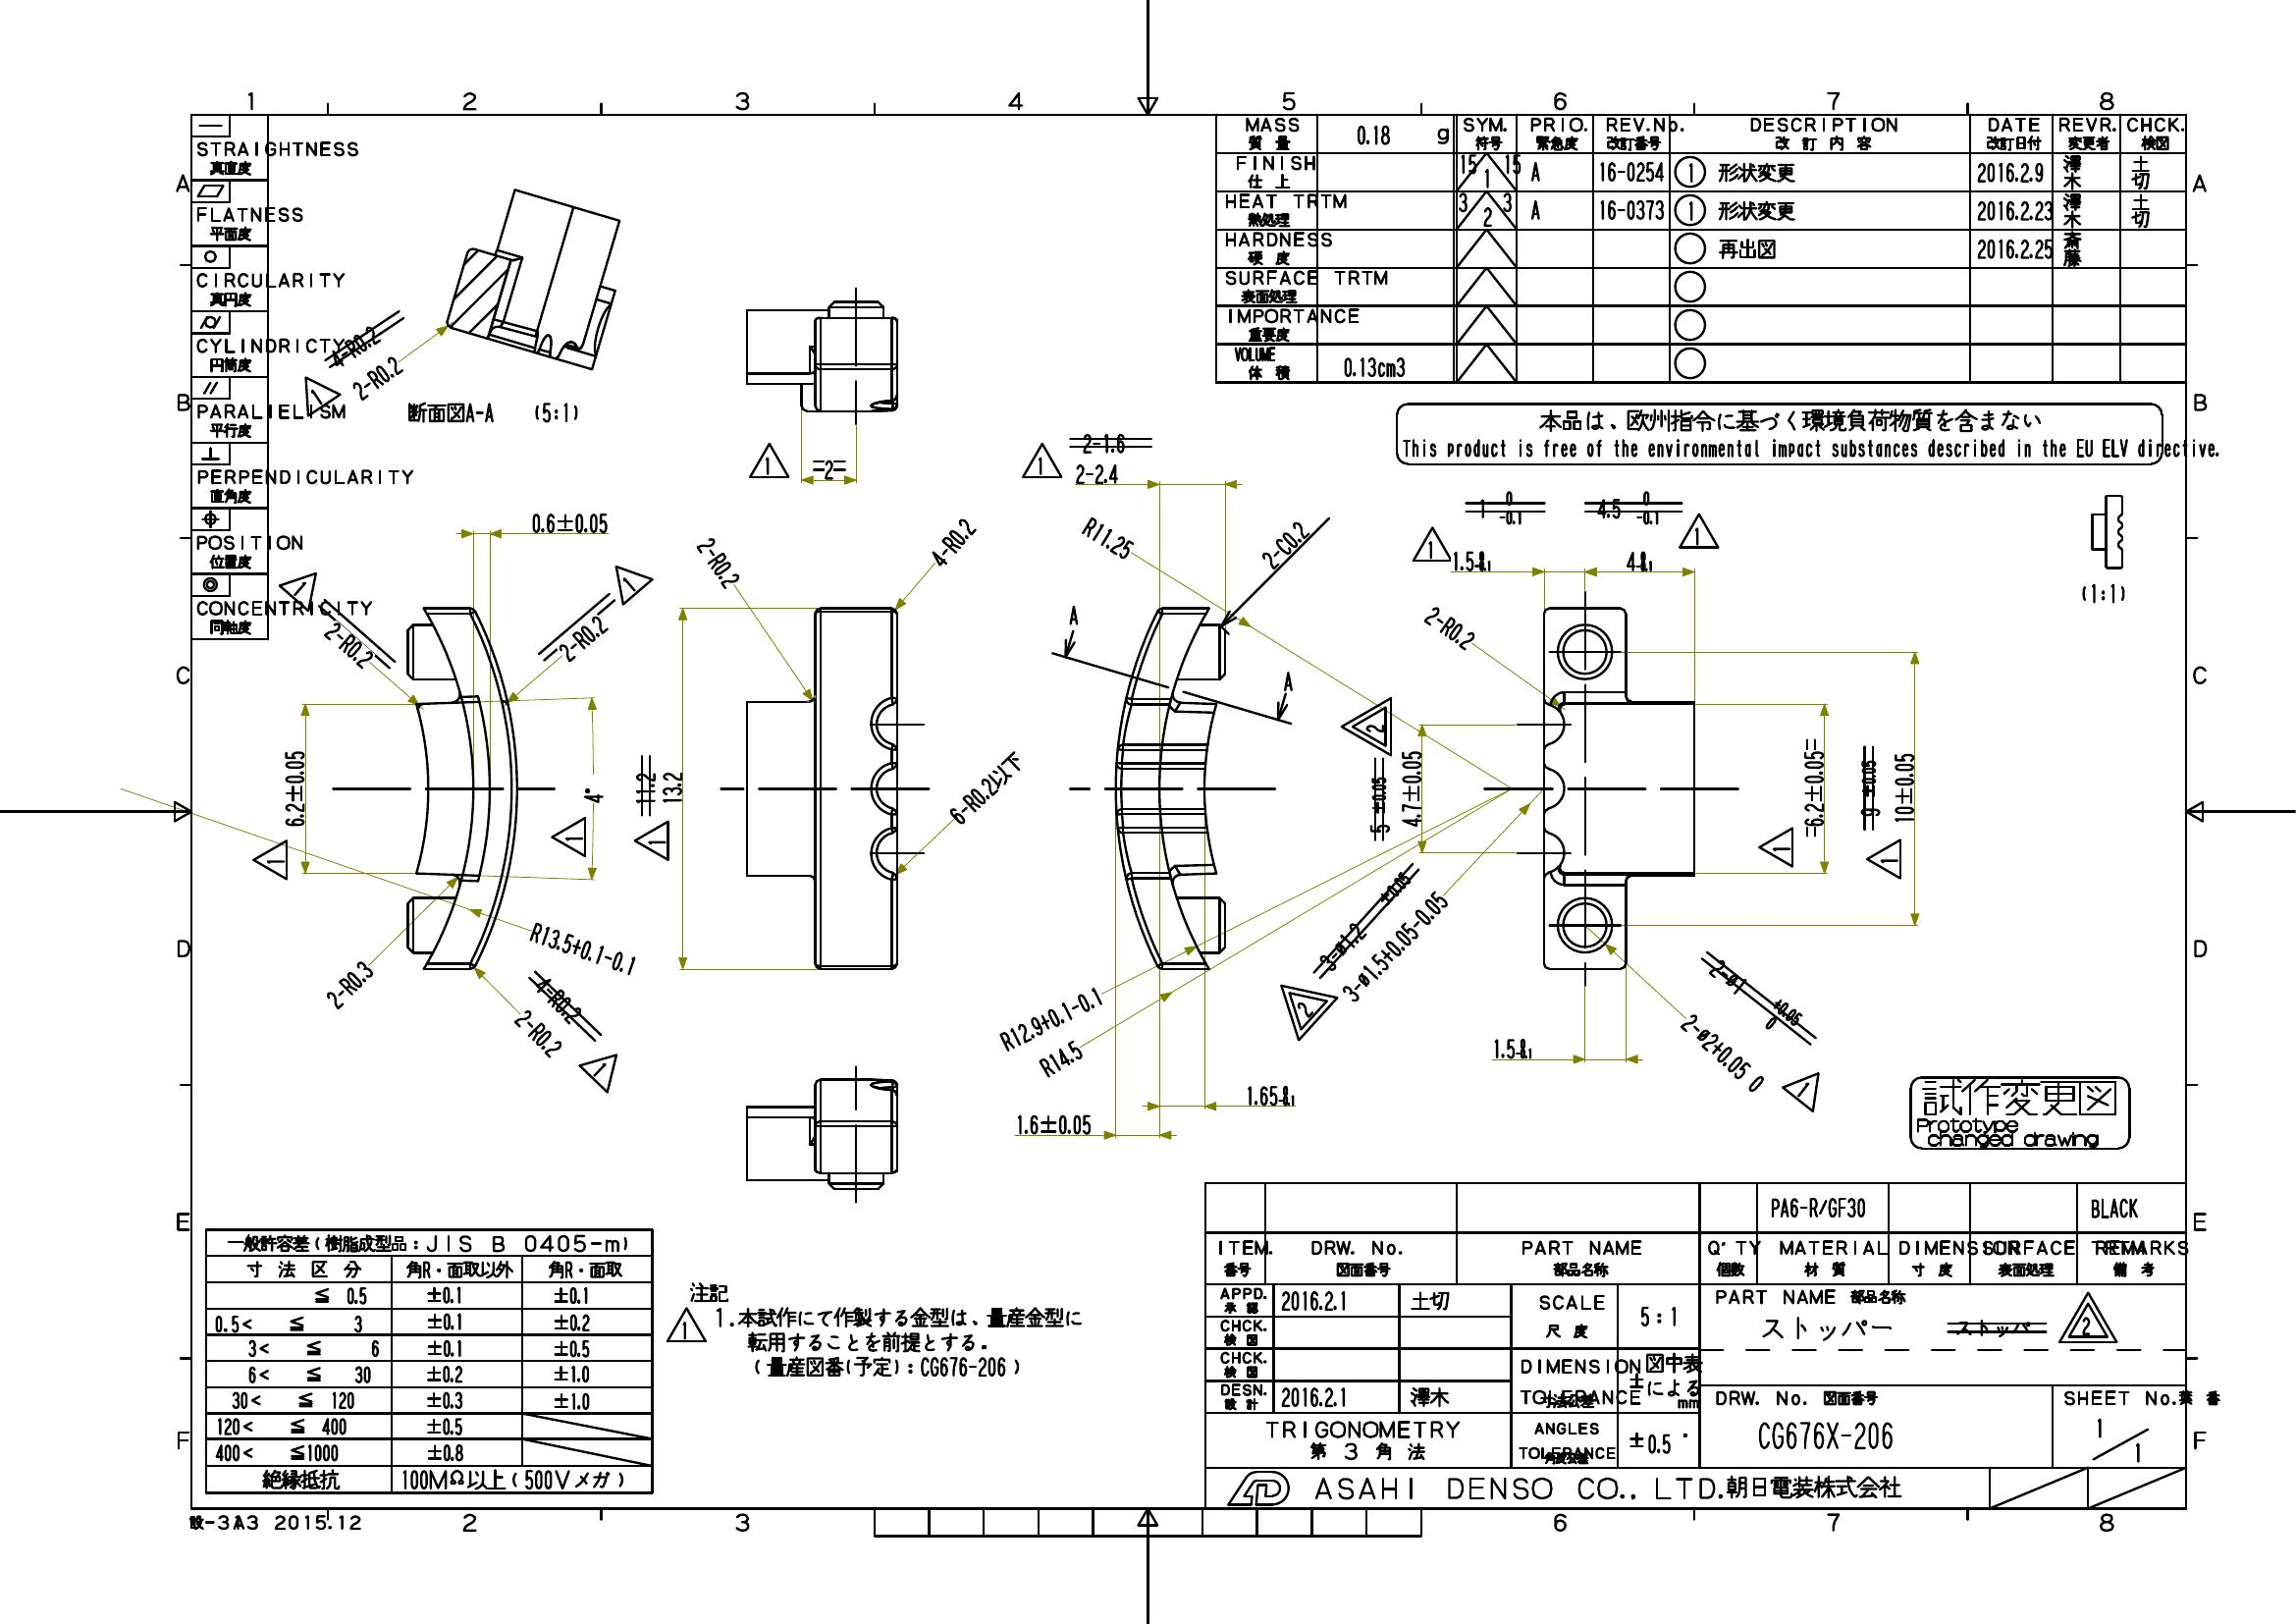anntotation_text: (1393, 404, 2220, 466), (664, 1280, 1082, 1380), (1910, 1076, 2131, 1151), (406, 399, 578, 424), (1339, 696, 1393, 756), (1270, 975, 1326, 1030), (188, 1512, 362, 1529), (1019, 441, 1063, 480), (747, 441, 791, 478), (302, 374, 341, 415), (249, 840, 288, 881), (578, 1053, 617, 1093), (1757, 826, 1794, 868), (632, 819, 669, 861), (278, 573, 318, 610), (1864, 840, 1901, 879), (1790, 1067, 1829, 1104), (1411, 526, 1451, 561), (550, 817, 587, 854), (1679, 513, 1718, 548), (611, 566, 648, 598), (2080, 584, 2126, 605), (1066, 605, 1079, 626), (1282, 668, 1293, 691)
dimension_text: (1325, 935, 1463, 958), (527, 935, 638, 960), (996, 1007, 1105, 1030), (1672, 1042, 1773, 1065), (942, 777, 1031, 800), (1398, 749, 1423, 828), (1890, 752, 1915, 823), (1015, 1113, 1091, 1135), (283, 750, 306, 826), (1802, 750, 1825, 826), (532, 511, 608, 533), (553, 626, 611, 649), (924, 529, 982, 552), (689, 550, 747, 573), (1079, 527, 1137, 550), (350, 366, 406, 388), (1423, 617, 1479, 640), (323, 633, 378, 656), (1258, 533, 1312, 555), (321, 974, 378, 995), (513, 1025, 567, 1044), (1493, 1035, 1532, 1060), (1038, 1048, 1082, 1069), (1245, 1086, 1296, 1104), (1075, 462, 1117, 483), (1451, 550, 1493, 571), (661, 770, 683, 803), (1623, 548, 1655, 571), (581, 786, 604, 805), (822, 459, 833, 480)
object: (1541, 606, 1697, 970), (745, 606, 899, 972), (406, 606, 518, 972), (1114, 606, 1226, 972), (443, 188, 620, 371), (747, 1077, 899, 1192), (745, 301, 899, 413), (2090, 494, 2124, 571)
title_block: (1205, 1183, 2185, 1508), (1214, 112, 2187, 383), (204, 1229, 653, 1494), (190, 114, 271, 640)
